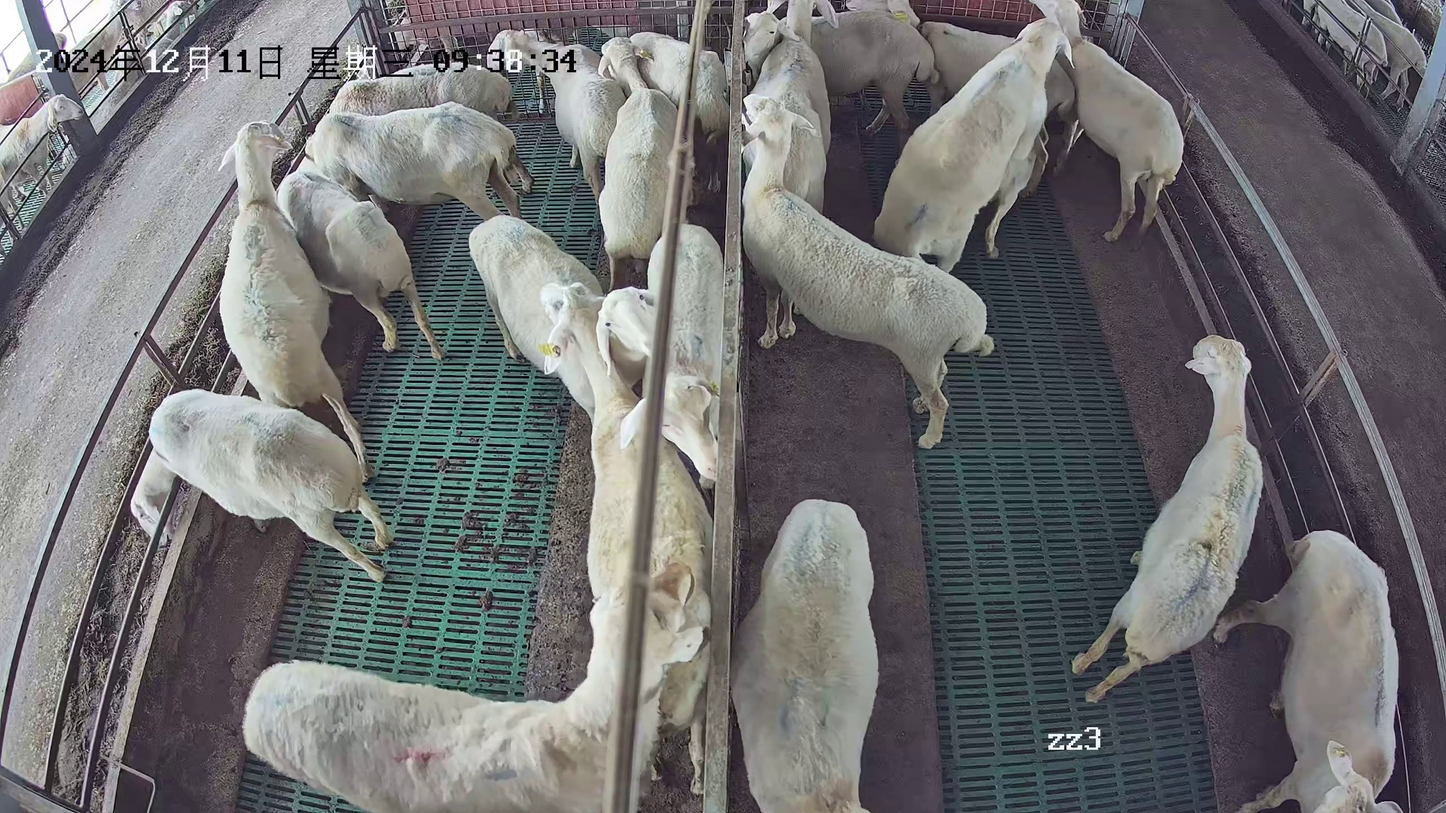Smounting: (870, 15, 1075, 272)
mounted: (978, 123, 1040, 260)
